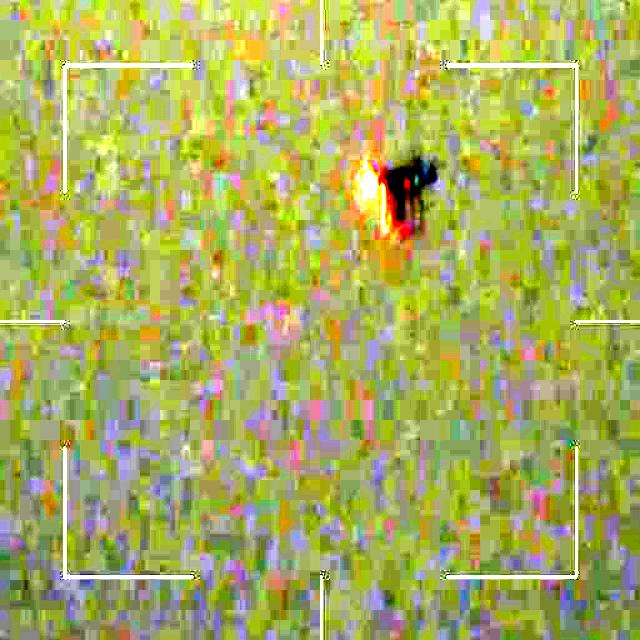bird: (352, 154, 442, 246)
